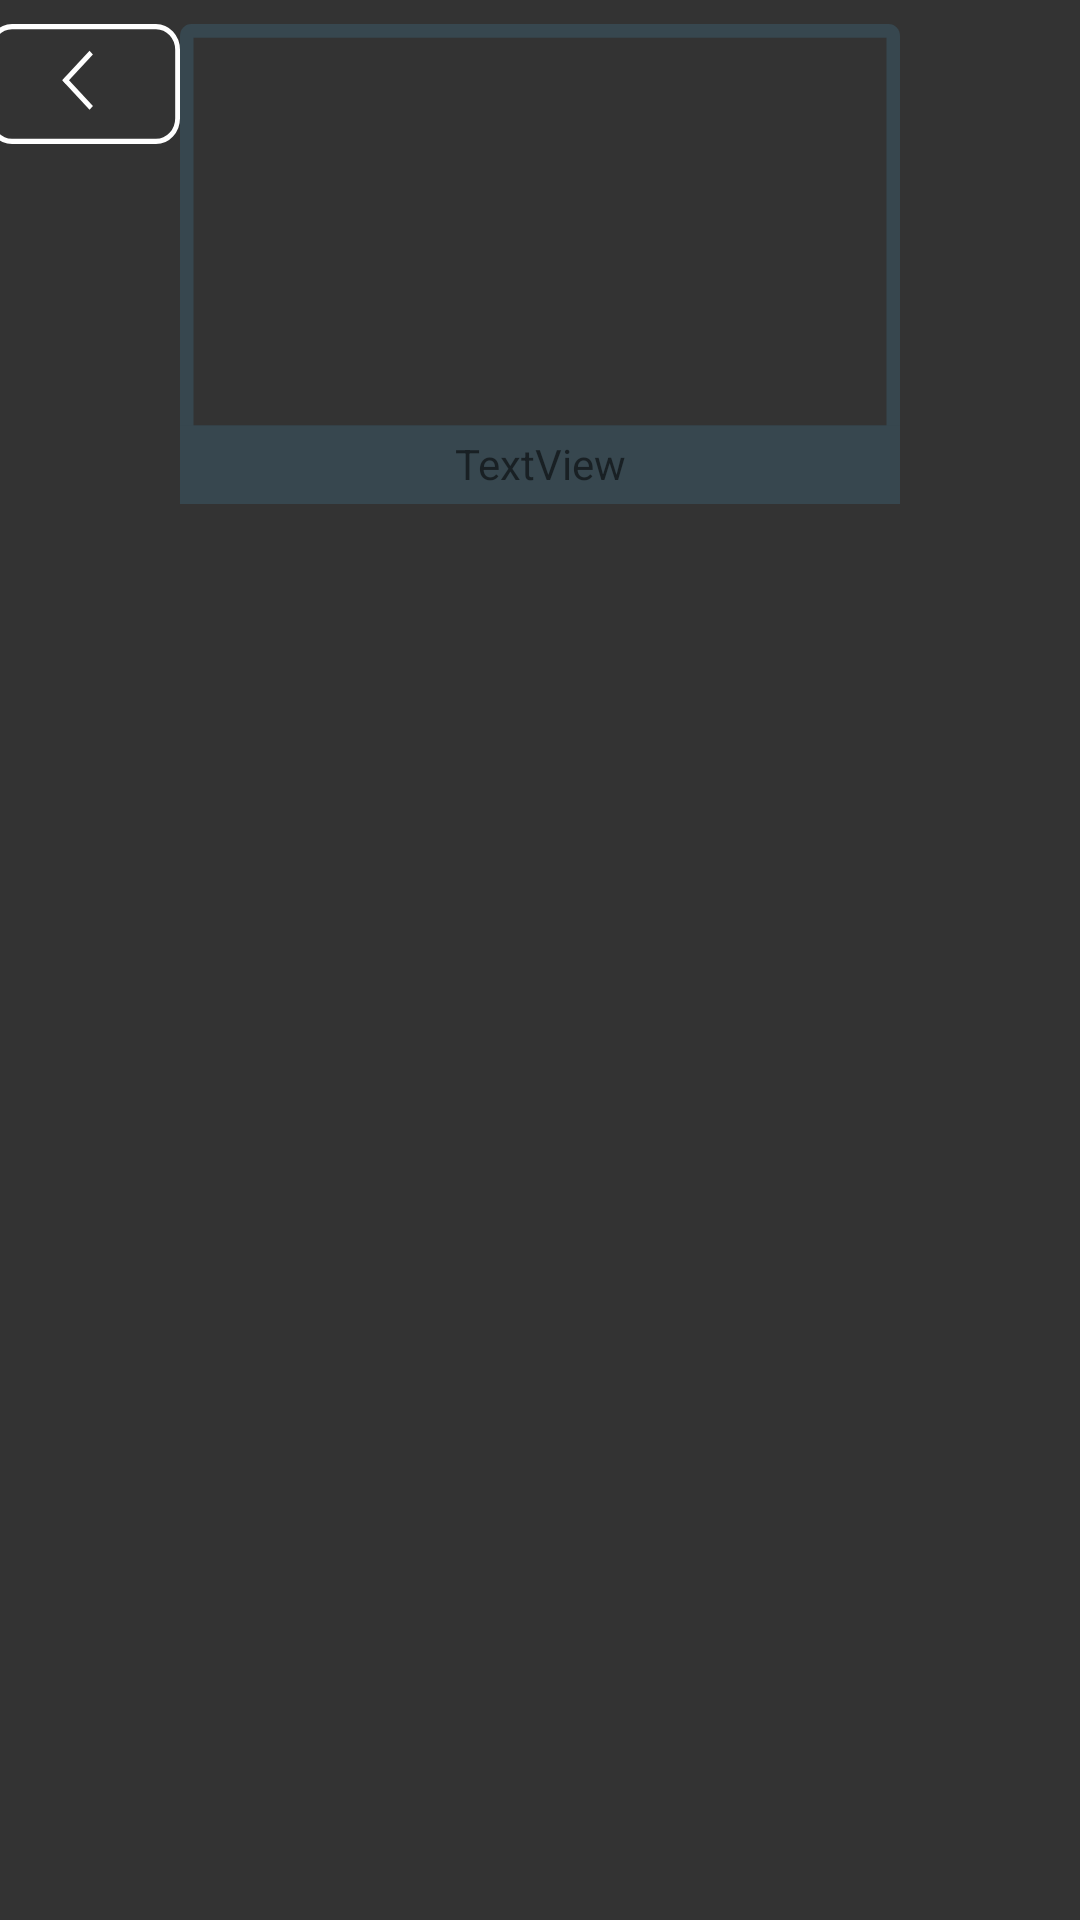

Where icons sit on this 1080*1920 app screen, as [x1, y1, x2, y2]:
back: [0, 24, 180, 144]
